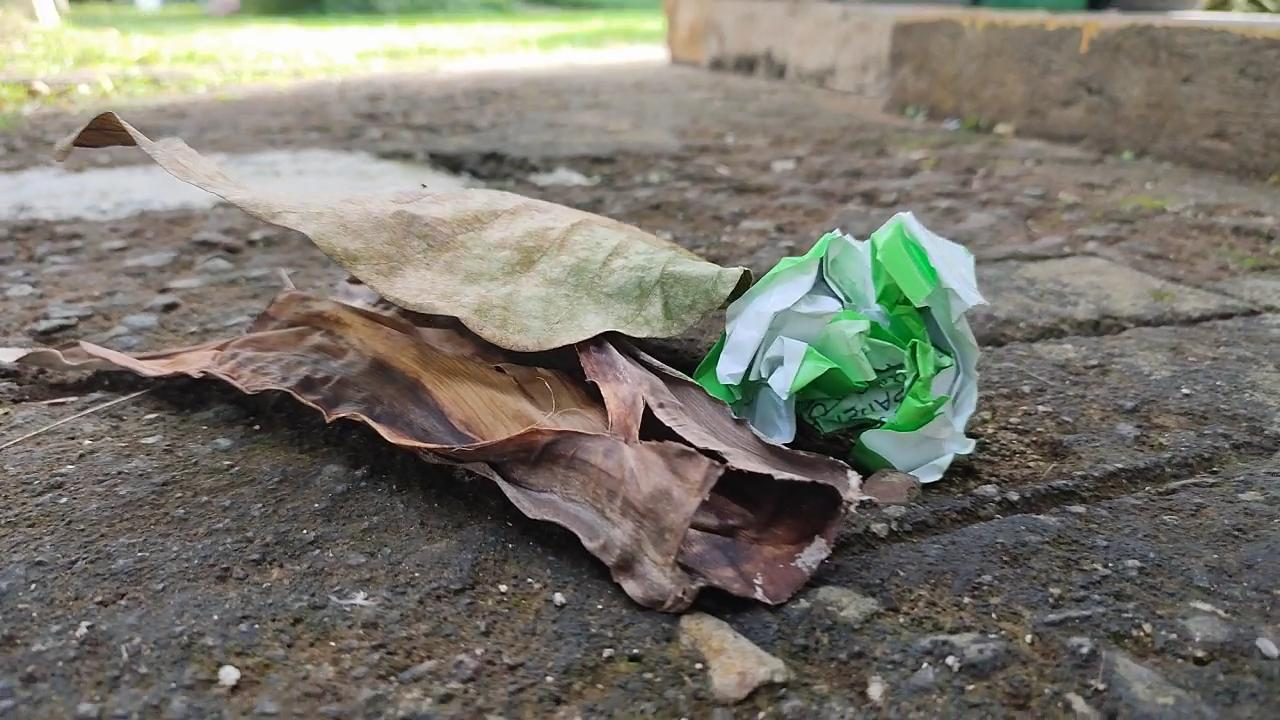Paper: (688, 187, 982, 477)
